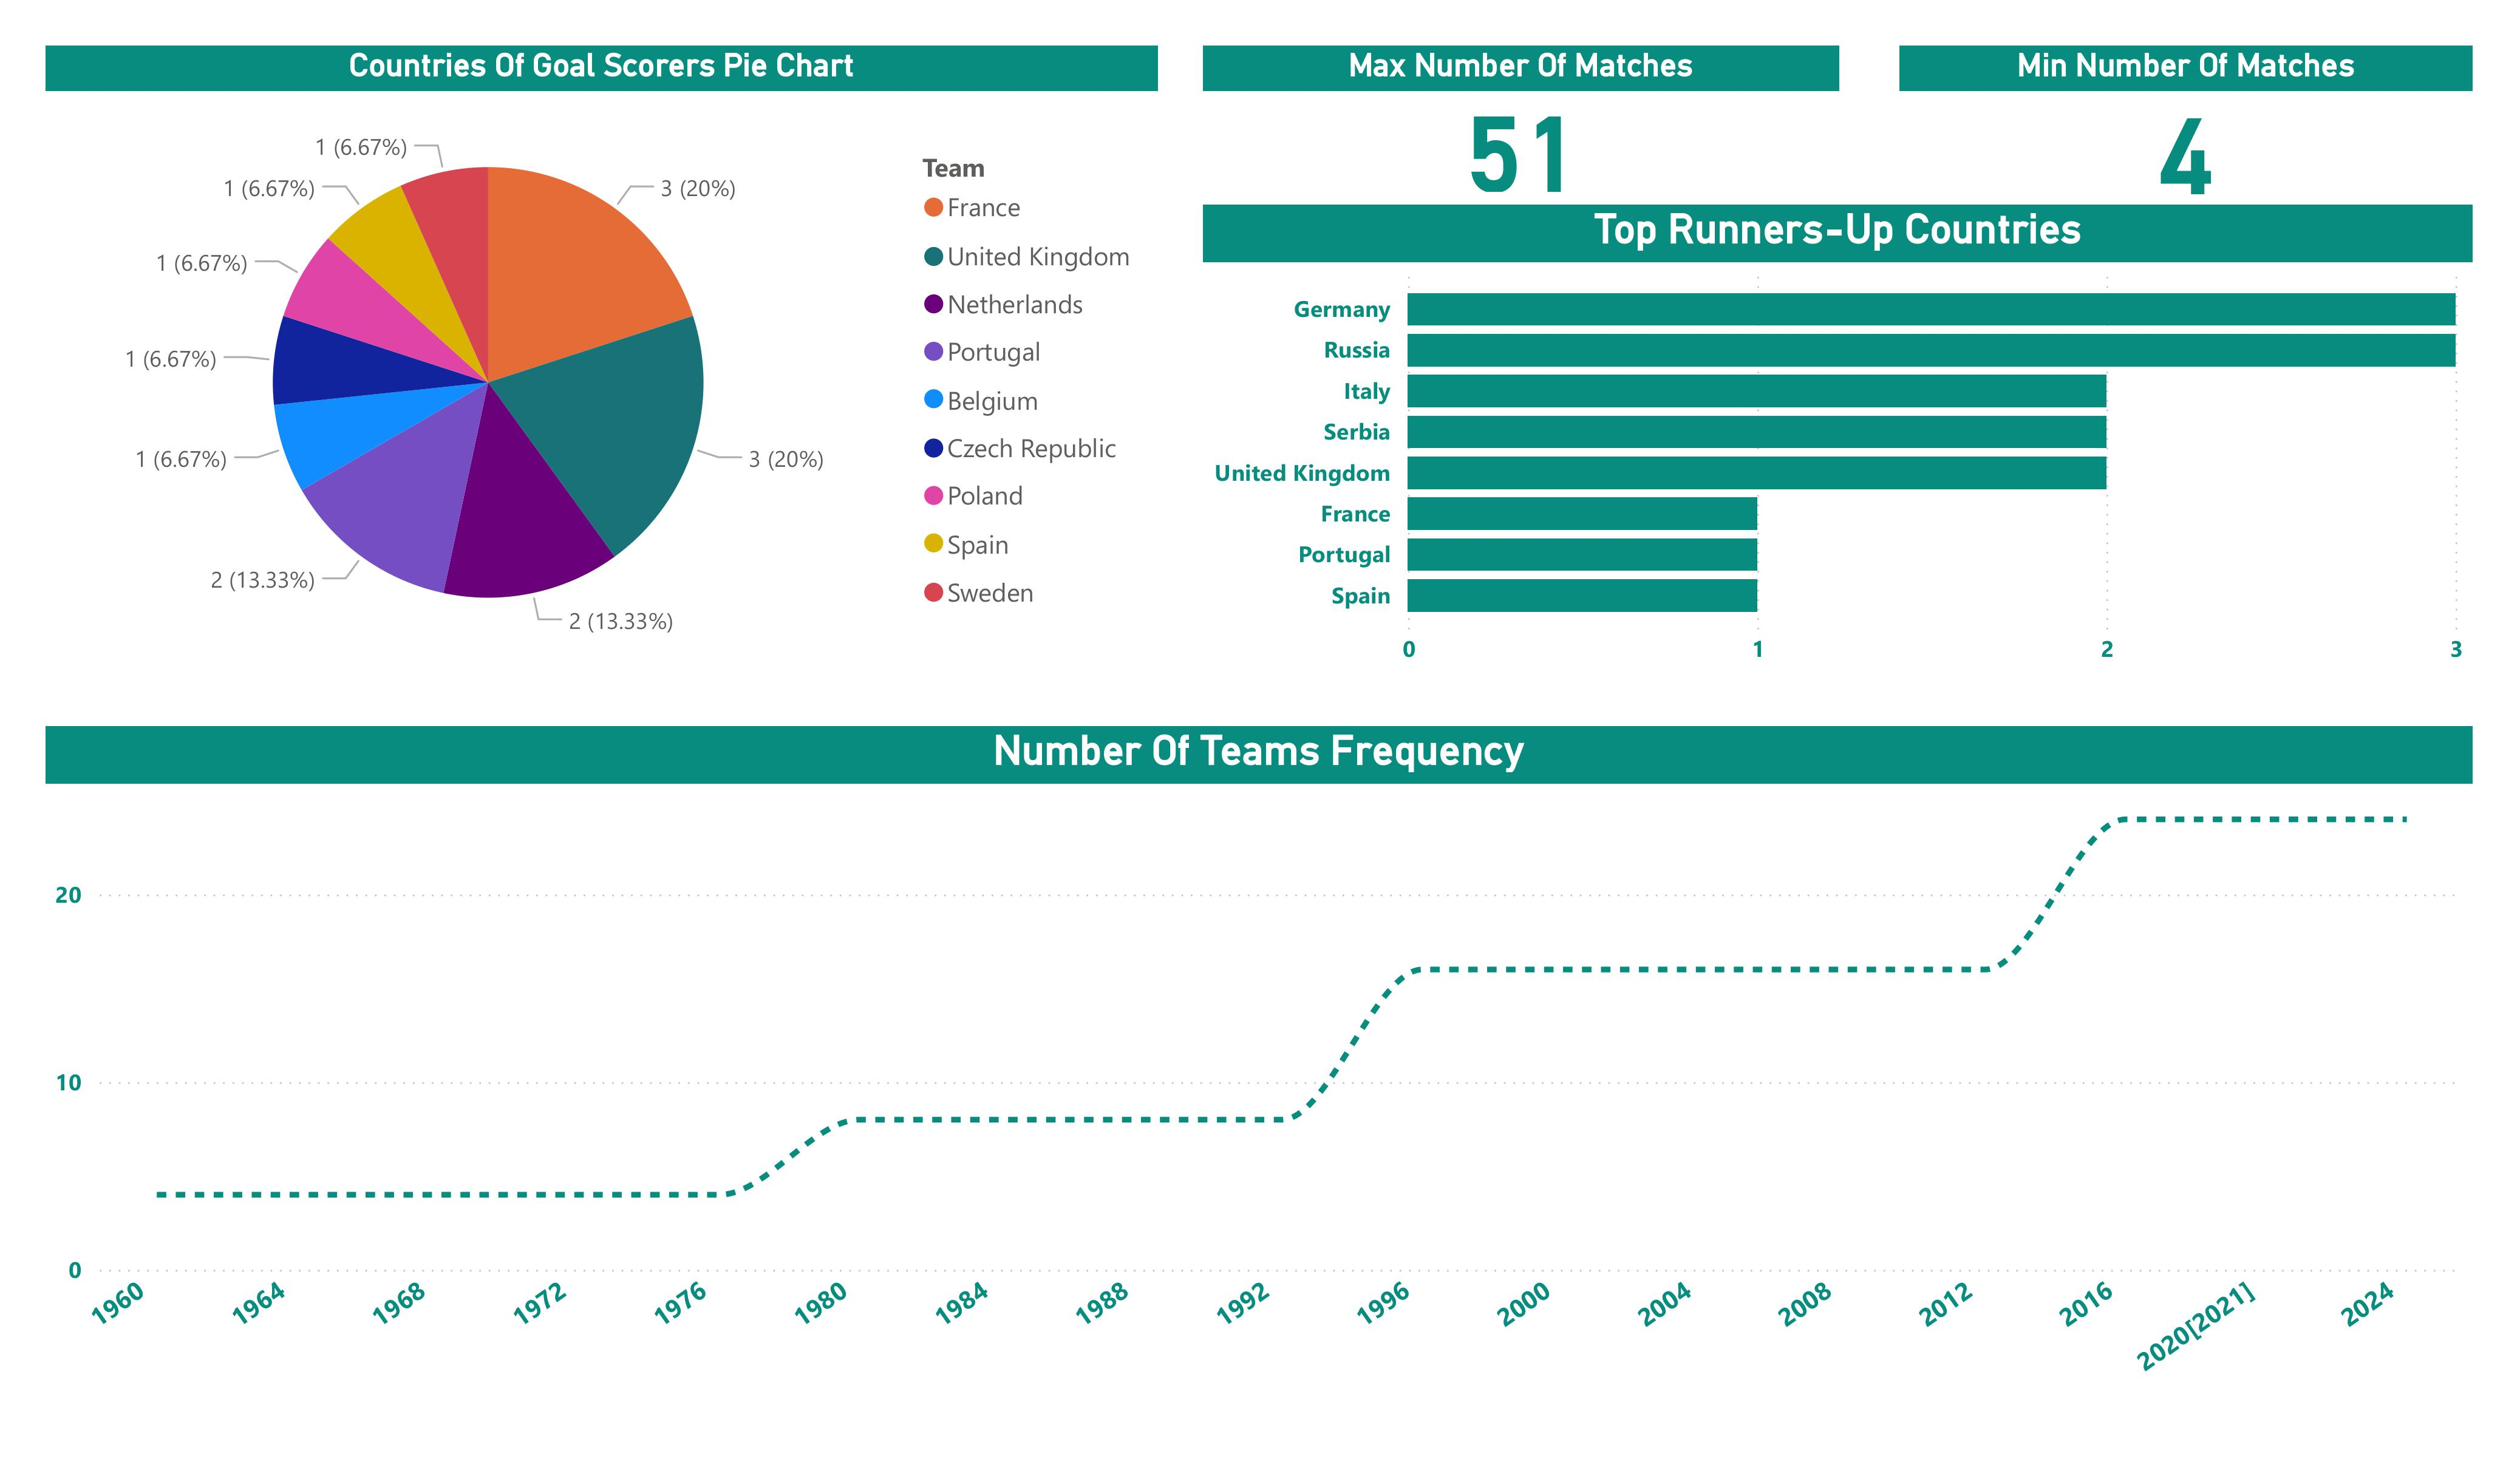

What the dashboard file says about the page in this screenshot:
{"tool":"powerbi","page":{"name":"Dashboard_2","canvas":[1280,720],"ordinal":1},"visuals":[{"type":"lineChart","title":"Number Of Teams Frequency","fields":{"Category":["Championships_System_Details.Year"],"Y":["Sum(Championships_Finals.Number_Of_Teams)"]},"box":[0,359.1,1279.4,360.9],"z":0},{"type":"card","title":"Max Number Of Matches","fields":{"Values":["Championships_System_Details.Max_Number_Of_Matches"]},"box":[610.2,0,334.6,81.7],"z":1000},{"type":"card","title":"Min Number Of Matches","fields":{"Values":["Championships_System_Details.Min_Number_Of_Matches"]},"box":[977.1,0,302.3,83.6],"z":2000},{"type":"pieChart","title":"Countries Of Goal Scorers Pie Chart","fields":{"Category":["Top_Goalscorers.Team"],"Y":["CountNonNull(Top_Goalscorers.Player)"]},"box":[0,0,585.5,336.5],"z":3000},{"type":"barChart","title":"Top Runners-Up Countries","fields":{"Category":["Championships_Finals.Runners-up"],"Y":["CountNonNull(Championships_Finals.Runners-up)"]},"box":[610.2,83.6,669.2,252.8],"z":3001}]}

Visuals, with their boxes on the page's 1280x720 design canvas (x1, y1, x2, y2). These are canvas units, not pixel positions in the 2520x1457 screenshot, which may show the page scaled, cropped or inside an application window:
"Number Of Teams Frequency" lineChart: x1=0 y1=359 x2=1279 y2=720
"Max Number Of Matches" card: x1=610 y1=0 x2=945 y2=82
"Min Number Of Matches" card: x1=977 y1=0 x2=1279 y2=84
"Countries Of Goal Scorers Pie Chart" pieChart: x1=0 y1=0 x2=586 y2=336
"Top Runners-Up Countries" barChart: x1=610 y1=84 x2=1279 y2=336
